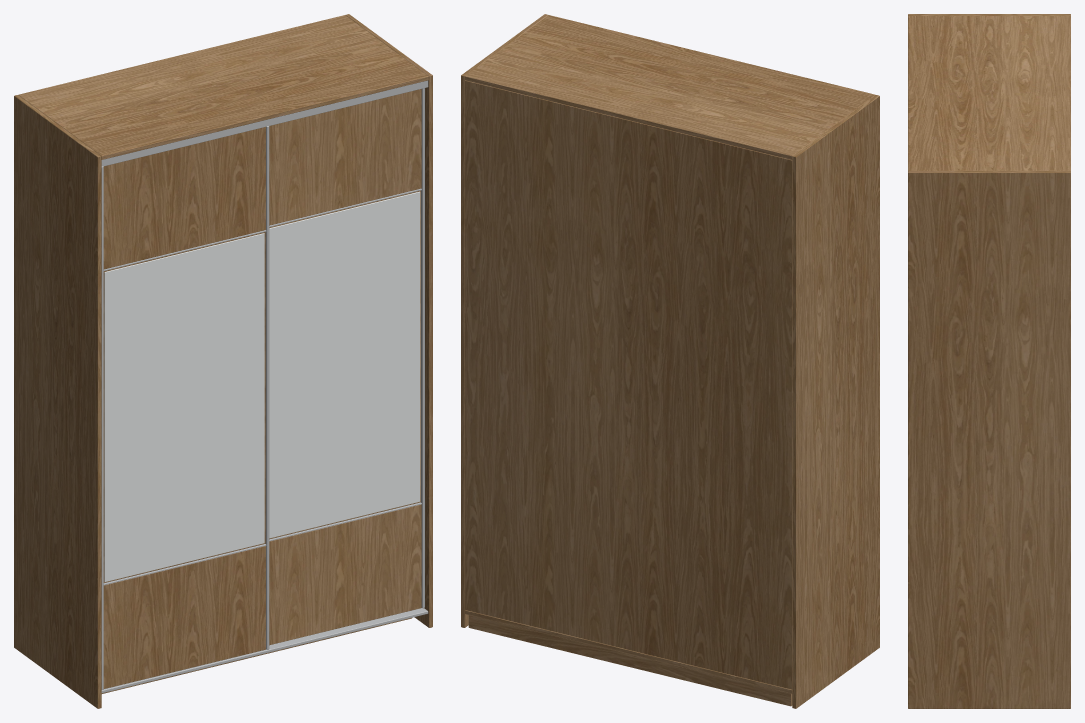
File: armario_corredero_espejo_150.glb
3 renders of one model, left to right at view 1: azimuth 30°, elevation 25°; view 2: azimuth 150°, elevation 25°; view 3: azimuth 270°, elevation 25°, orthographic. The views are drawn at different scales.
Visible parts, largest first — view 1: armario_corredero_espejo_150; view 2: armario_corredero_espejo_150; view 3: armario_corredero_espejo_150.
Part boxes in pixels (bbox=[...]): armario_corredero_espejo_150: bbox=[14, 14, 432, 708]; armario_corredero_espejo_150: bbox=[461, 14, 879, 708]; armario_corredero_espejo_150: bbox=[908, 14, 1070, 708].
Size of the model in its own units: 1.5 by 2.36 by 0.65.
3 materials, 1 textured.
